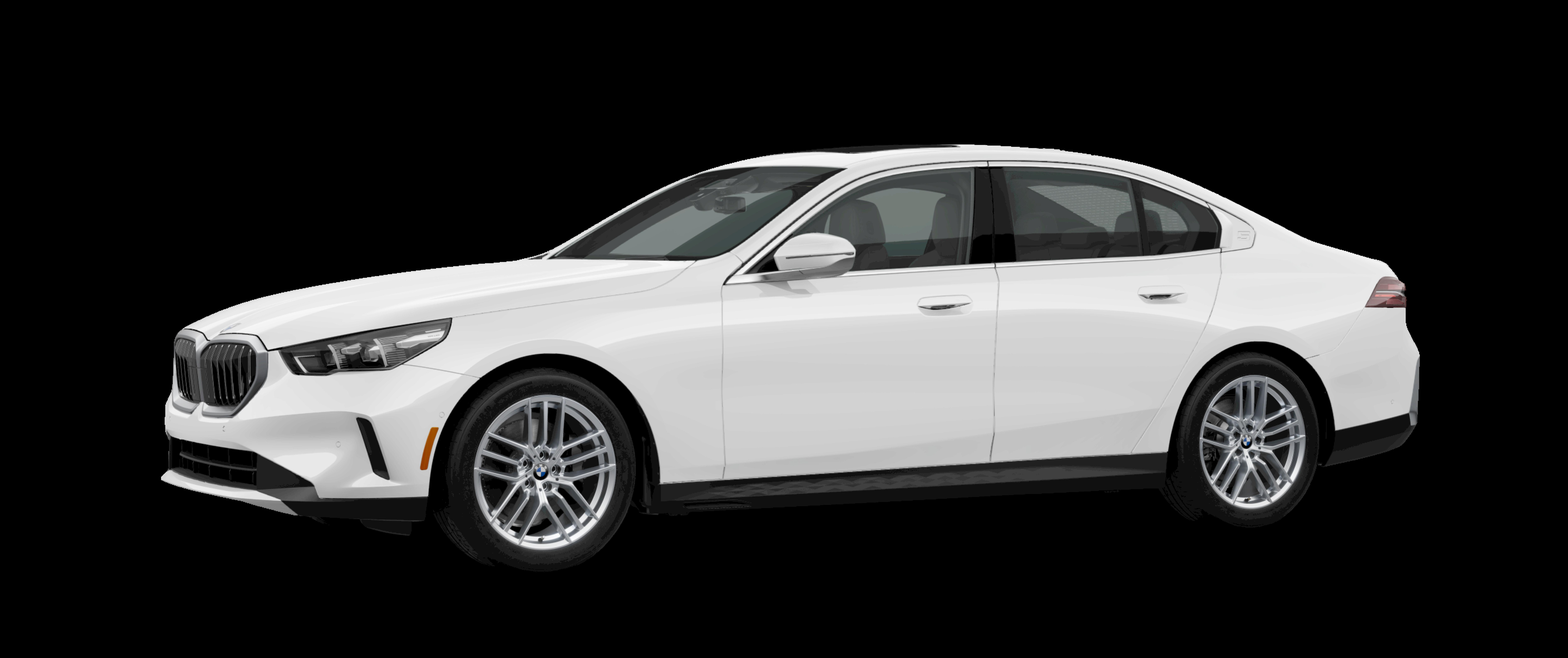Sedan: (155, 136, 1435, 598)
